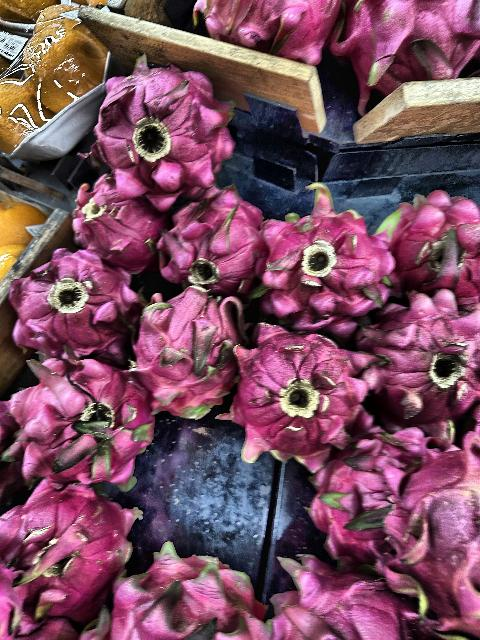buah-naga-matang: (366, 426, 480, 640), (228, 318, 380, 470), (256, 179, 400, 327), (10, 356, 158, 498), (0, 483, 140, 627), (91, 62, 239, 196), (0, 251, 150, 365), (358, 298, 480, 430), (131, 284, 245, 424), (114, 540, 270, 640), (334, 0, 480, 104), (268, 546, 420, 640), (152, 190, 264, 298), (384, 179, 480, 299), (66, 172, 164, 270), (310, 442, 390, 562), (190, 0, 341, 58)
